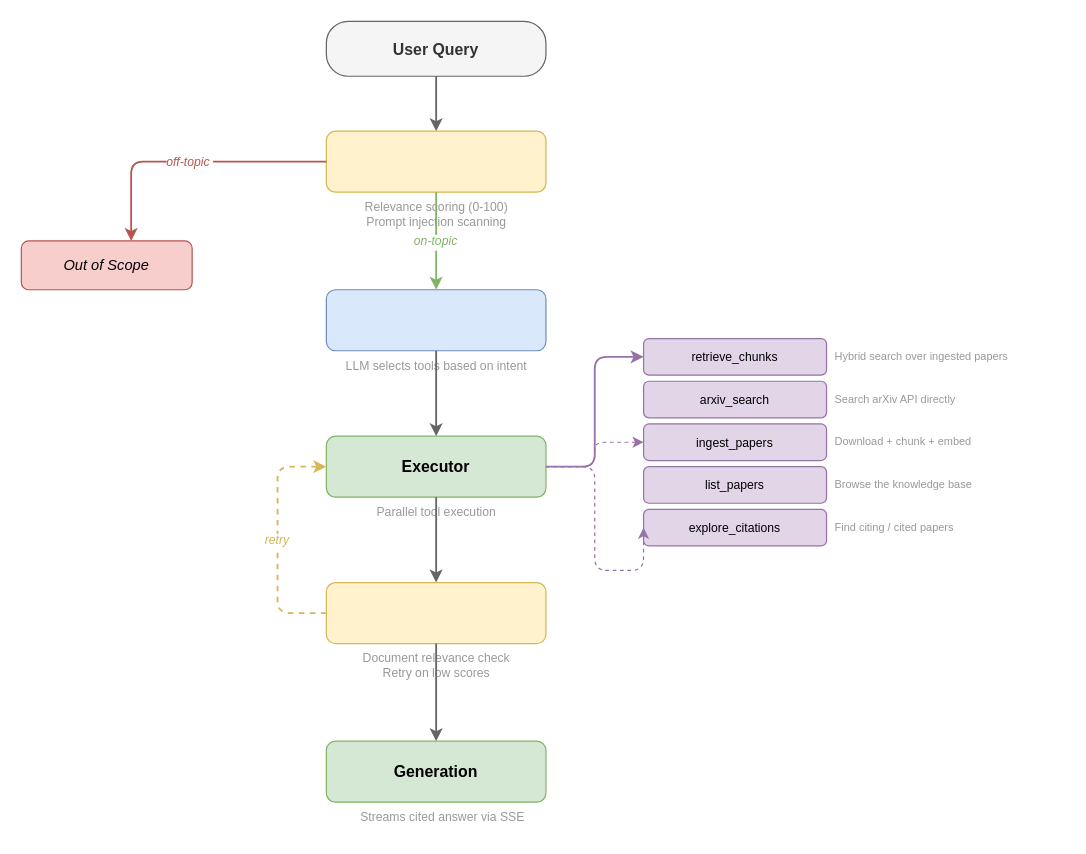
Some shapes in this 1086 by 854 pixel diagram are drawn without their labels. The shapes that lost their labels are listed below. From the top down, each one's centre as x and y in pixels, then its label:
the point at 435,161: Guardrail
the point at 435,320: Router
the point at 435,612: Grading
